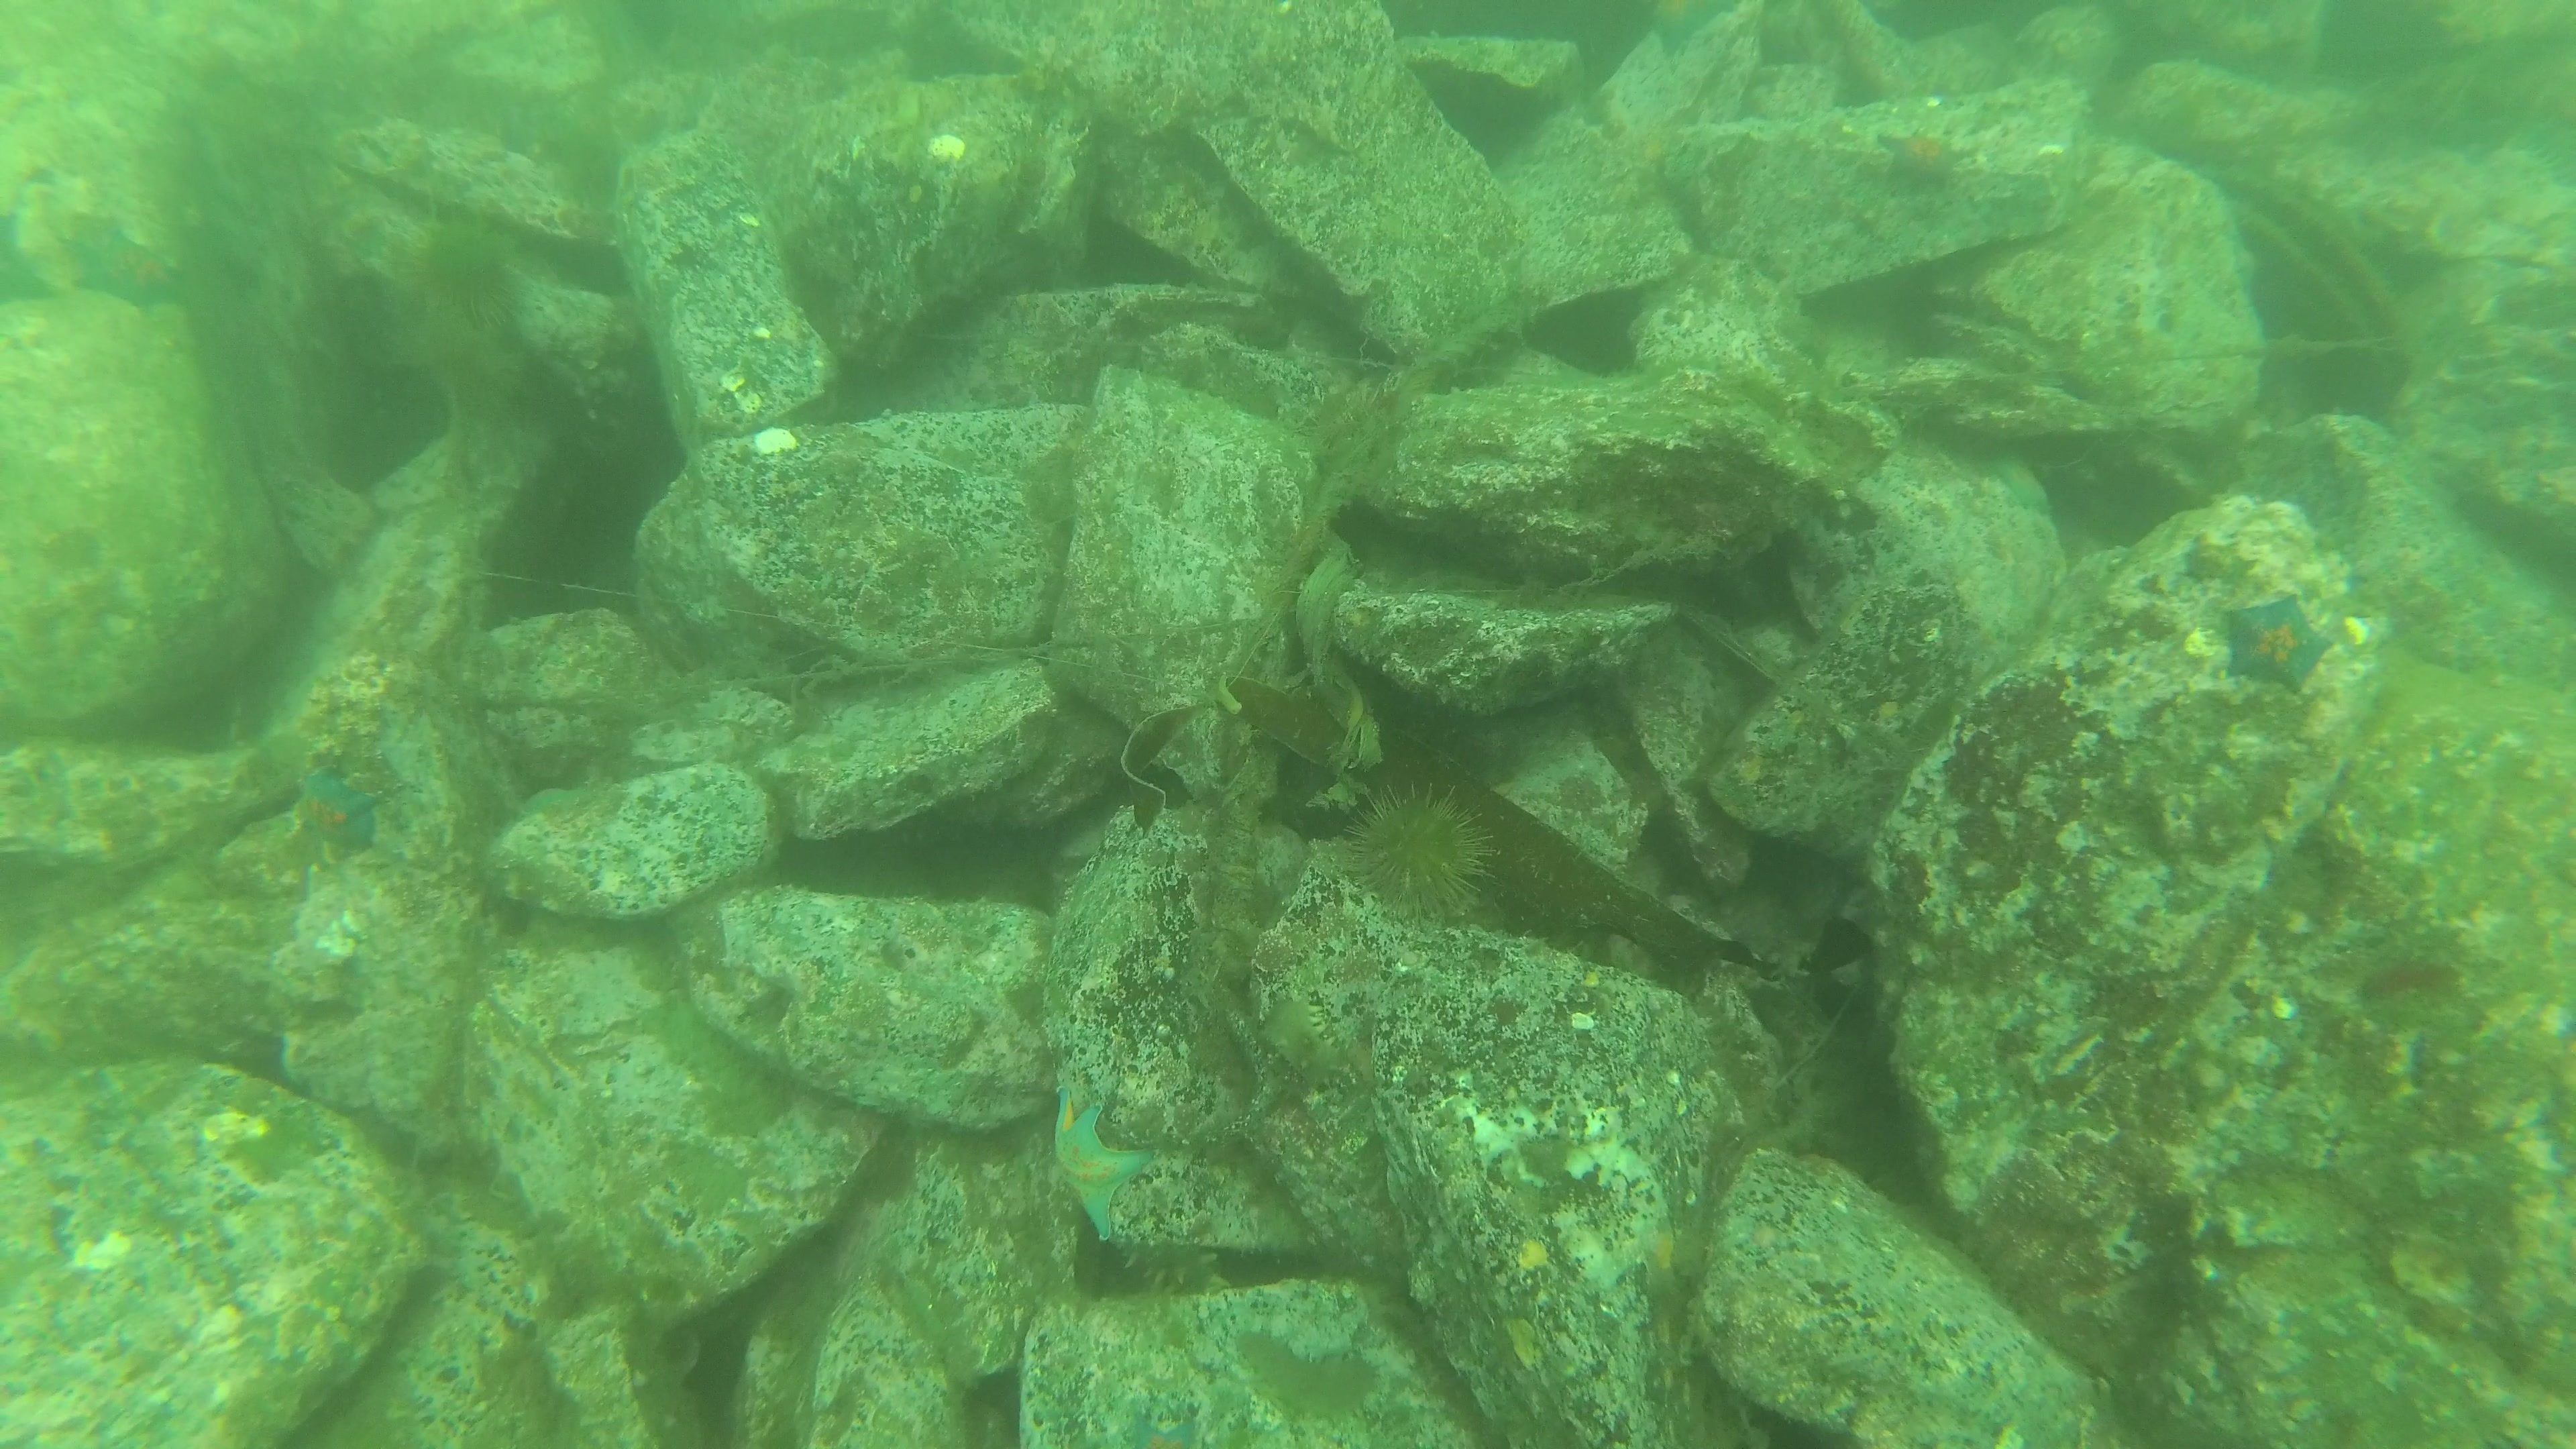echinus: (1352, 784, 1493, 927), (403, 211, 529, 331)
holothurian: (1261, 996, 1345, 1092)
starfish: (1053, 1086, 1157, 1240), (2222, 594, 2332, 697), (58, 234, 191, 315), (295, 775, 382, 849), (1879, 129, 1974, 191), (1649, 0, 1741, 55)
